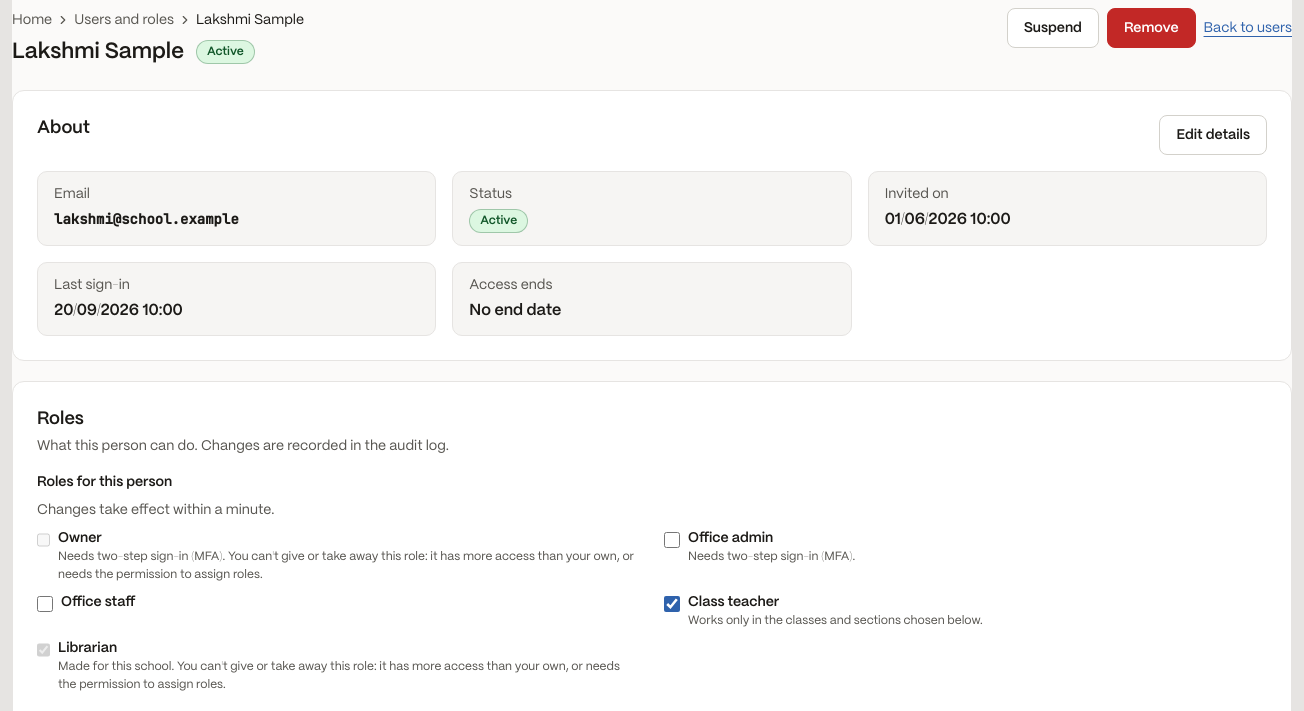
Test: user detail (US-102 AC2, FR-IAM-012..014) › replaces roles with PUT and keeps a held role the member cannot change
Expected: the checkbox labelled "Librarian" is disabled, [37,642,50,658]
Expected: the checkbox labelled "Librarian" is checked, [37,642,50,658]
What coordinates should you click on to do the following:
click the checkbox labelled "Class teacher"
I would click on:
 (672, 604)
Its box is [664,596,680,612].
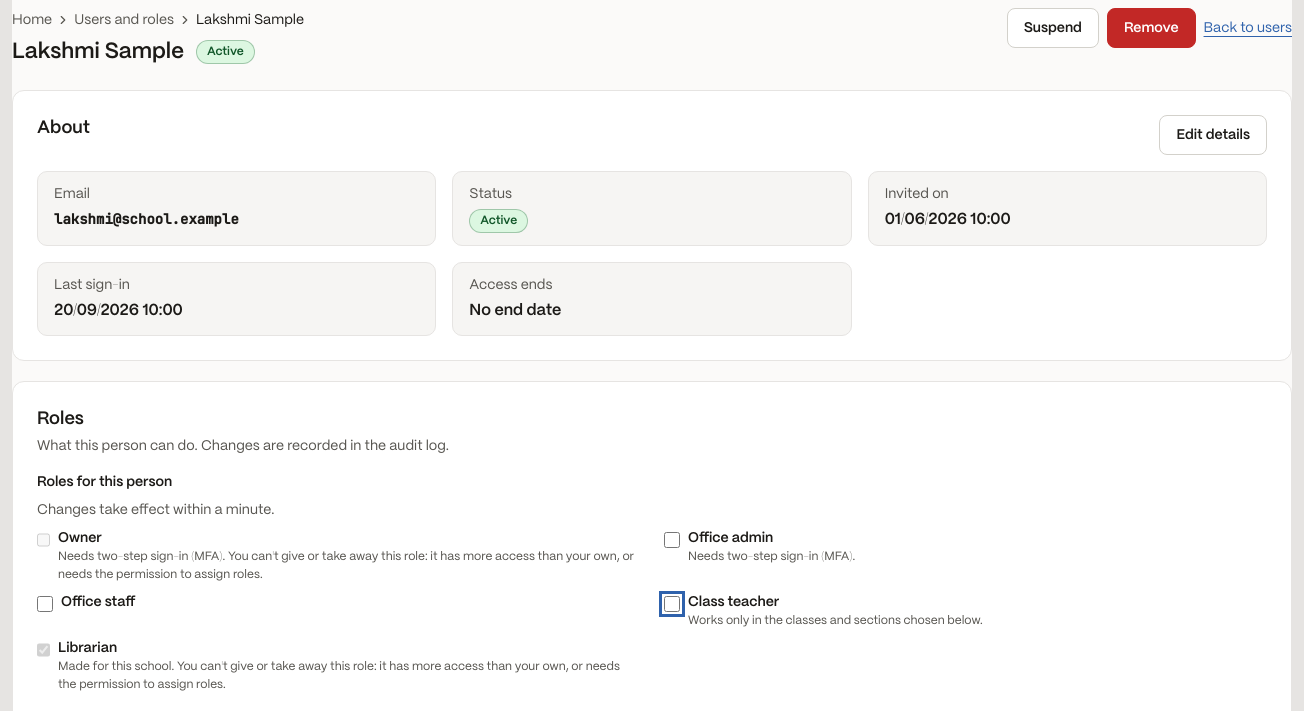
What coordinates should you click on to do the following:
click the checkbox labelled "Office staff"
I would click on:
 (45, 604)
Its box is [37,596,53,612].
(page scrolled)
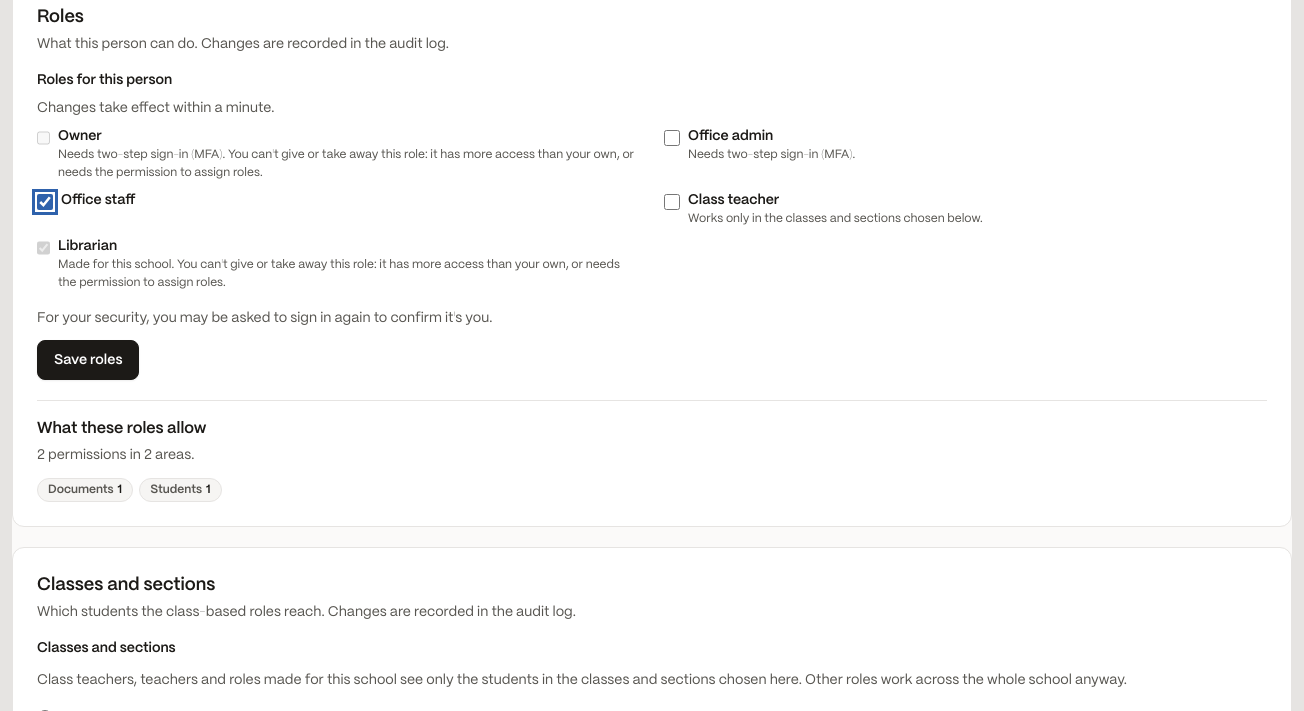
What coordinates should you click on to do the following:
click the button "Save roles"
I would click on:
 (88, 360)
Its box is [37,340,139,380].
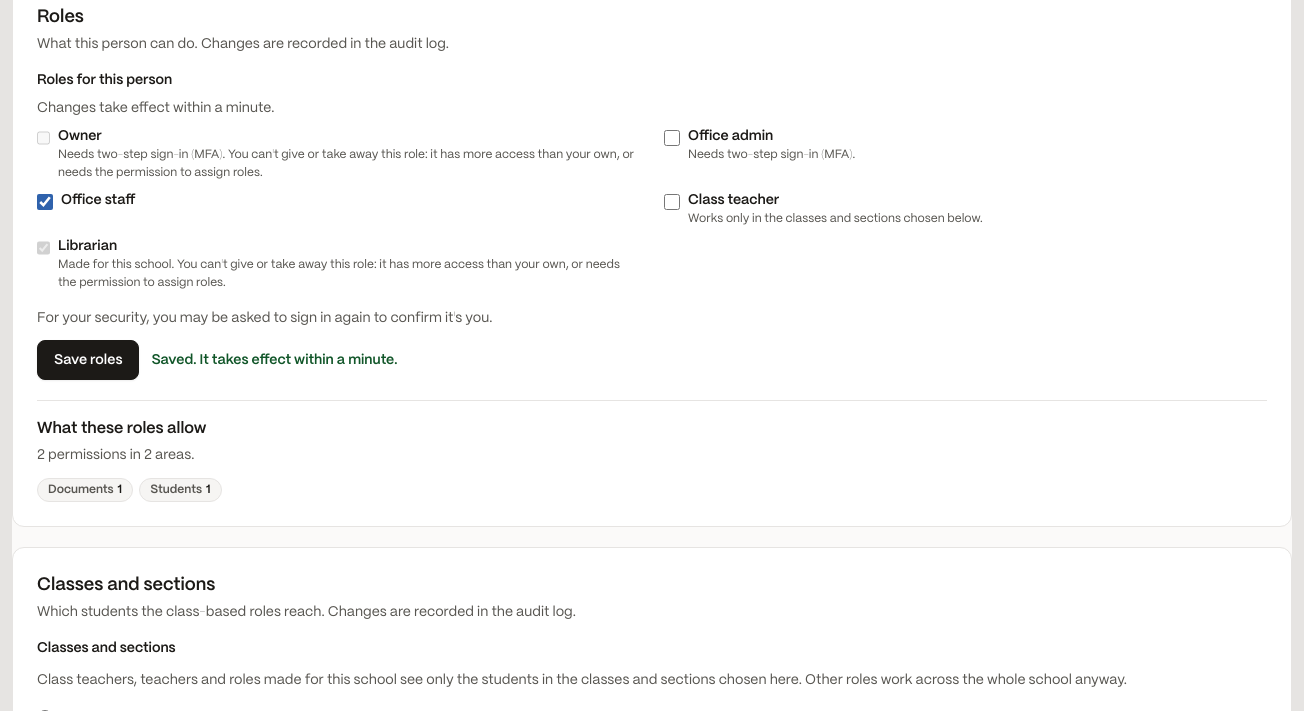
Expected: the text "Saved. It takes effect within a minute." is shown, [151,350,398,370]
